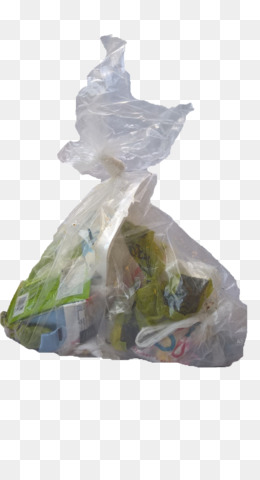plastic_bagwdw: (2, 30, 260, 406)
